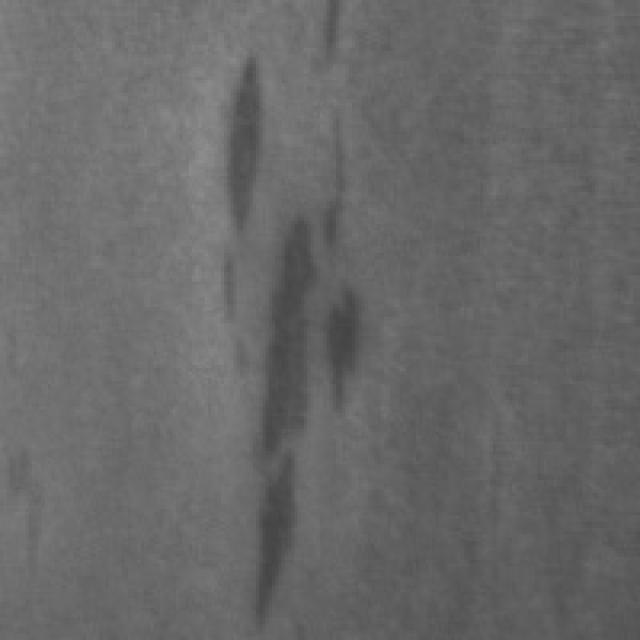inclusion: (240, 109, 362, 627), (205, 45, 275, 326), (307, 272, 371, 419), (4, 442, 70, 566), (313, 0, 348, 70)
